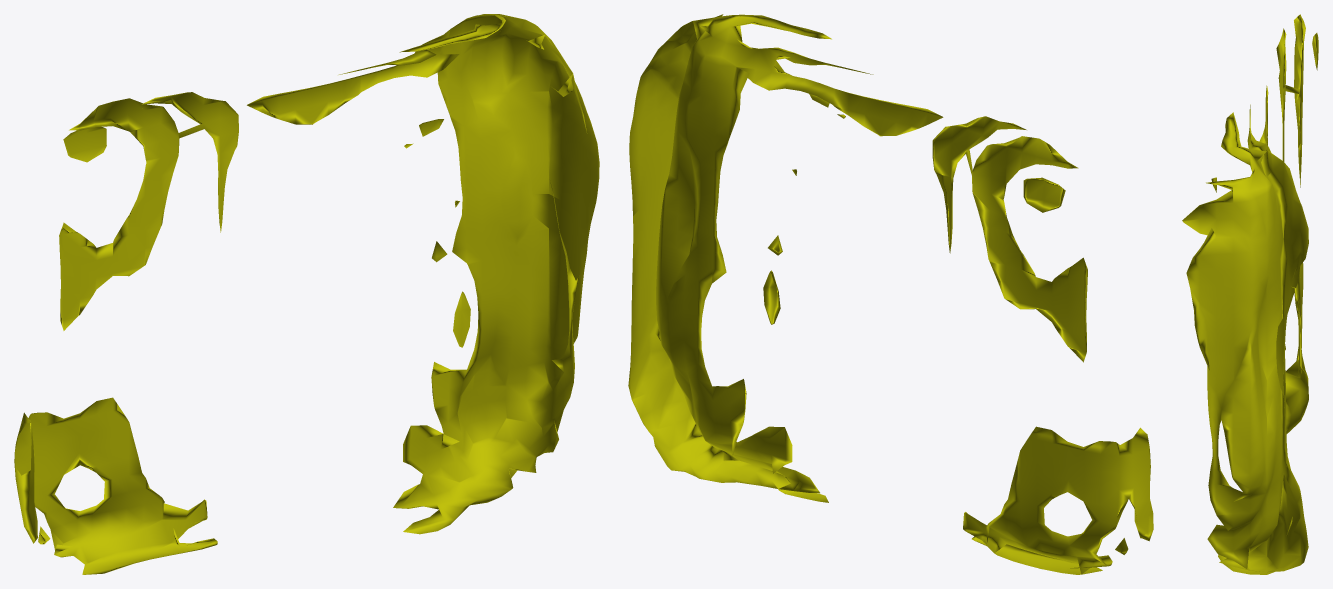
3 views of the same model, side by side, from view 1: azimuth 30°, elevation 25°; view 2: azimuth 150°, elevation 25°; view 3: azimuth 270°, elevation 25° (orthographic). The views are drawn at different scales.
Parts seen in each view (by area): view 1: world; view 2: world; view 3: world.
Boxes of the visible parts, box(x1,y1,x2,y2) form: world: box(14, 14, 599, 574); world: box(628, 14, 1153, 574); world: box(1182, 14, 1318, 574).
Bounding box in the file's own units: 32.97 × 28.2 × 8.16.
